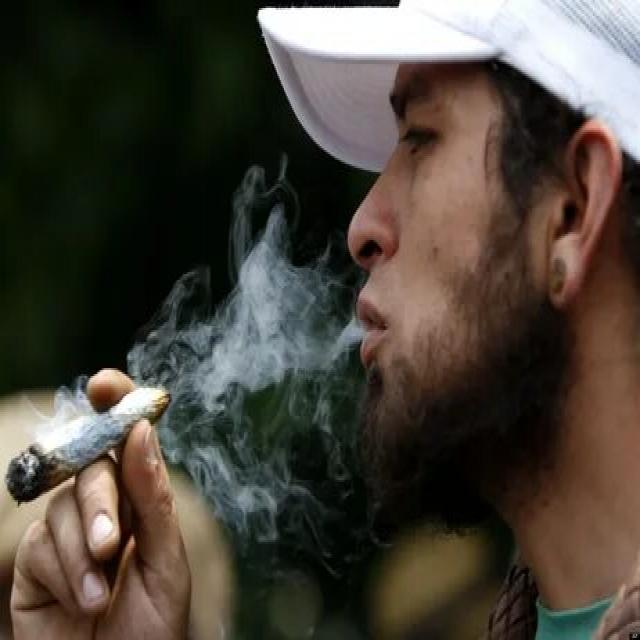smoke: (4, 370, 177, 520)
